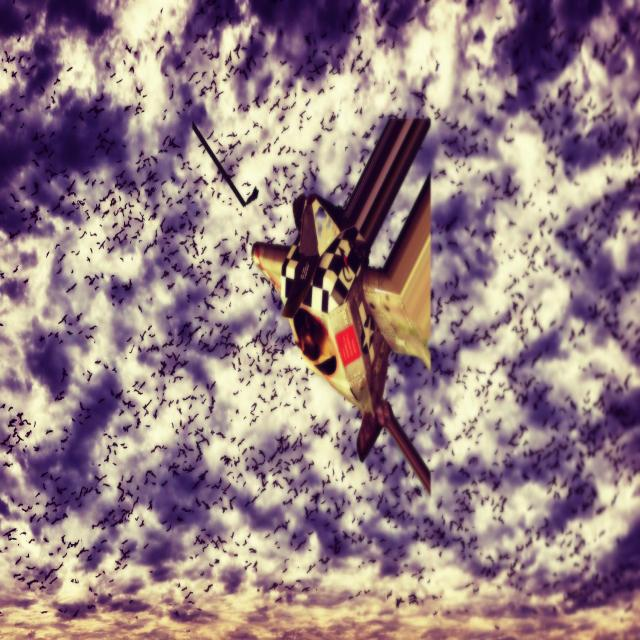airplane: (251, 113, 433, 496)
